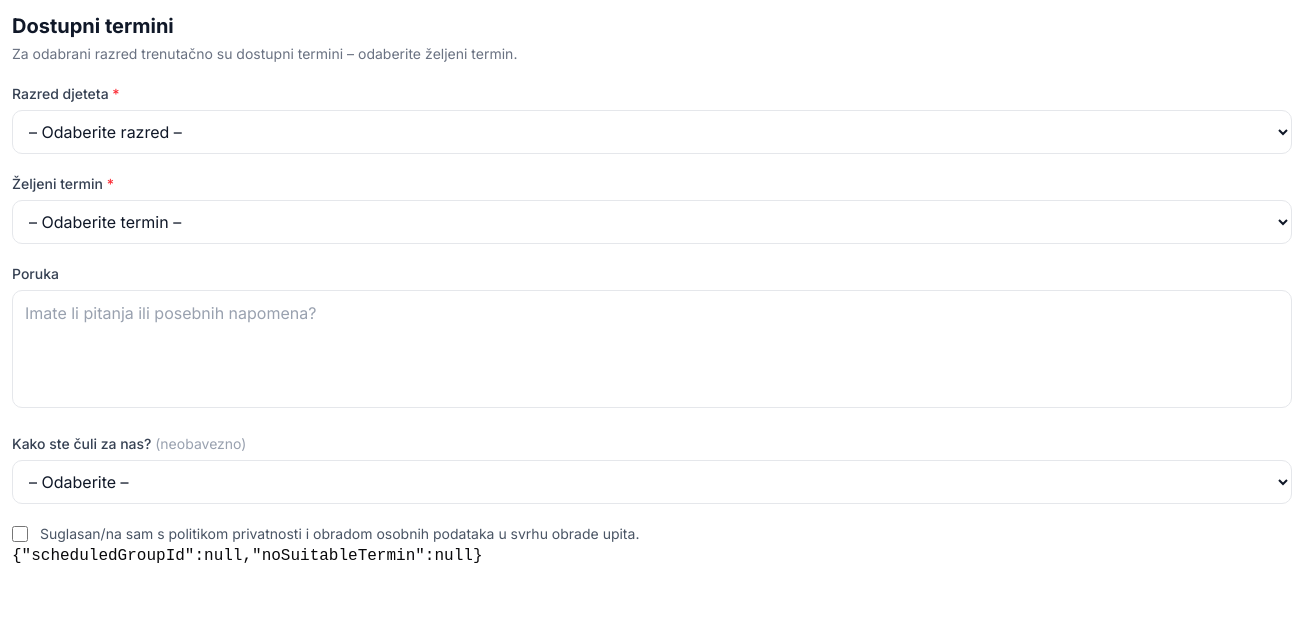
Test case: InquiryStep3 — "predloženi termin mi ne odgovara" › records the refusal as an answer, leaving the inquiry group-less
The image size is (1304, 626).
Select "Ne odgovara mi predloženi termin" in the dropdown labelled "Željeni termin *": (652, 222) [12, 200, 1292, 244]
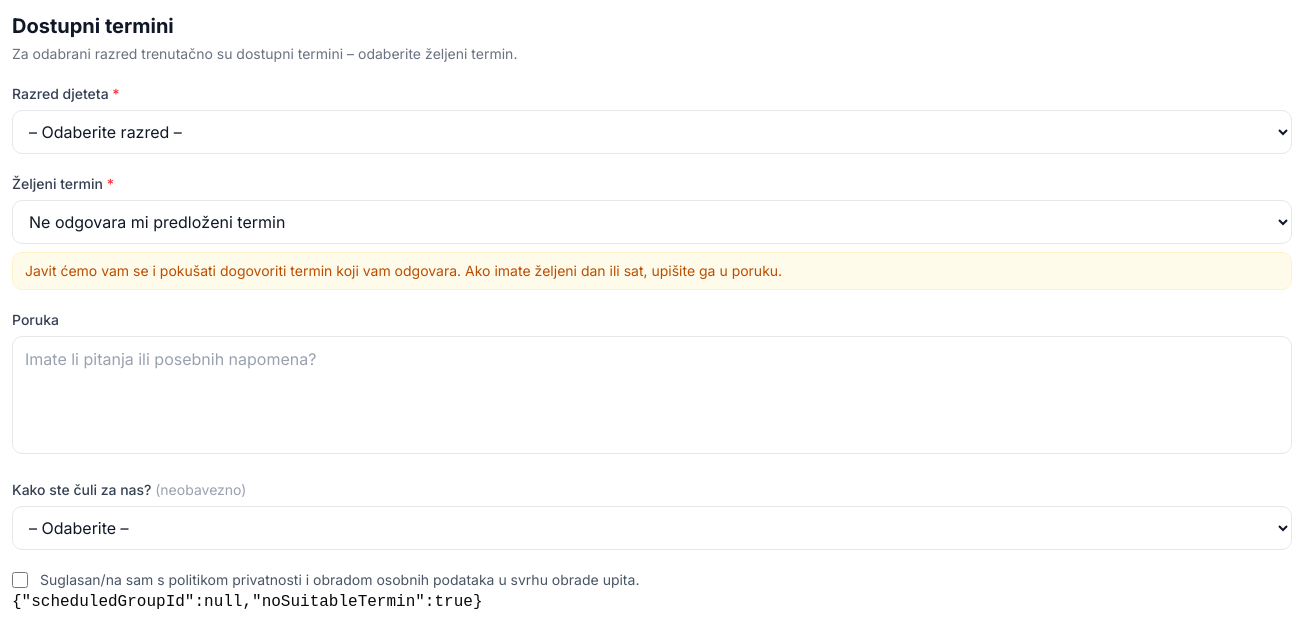
Expected: the text "pokušati dogovoriti termin koji vam odgovara" is shown, [25, 262, 782, 279]
